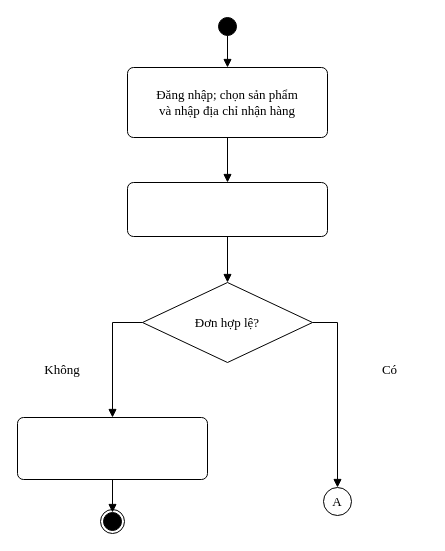
Image size: 445x551. Some labels were removed from this diagram. The shapes that lost their labels are listed below. From the top down, each one's centre as x and y in pixels, then its label:
the point at 227,209: Chọn COD hoặc QR
the point at 112,448: Báo lỗi; yêu cầu cập nhật thông tin
